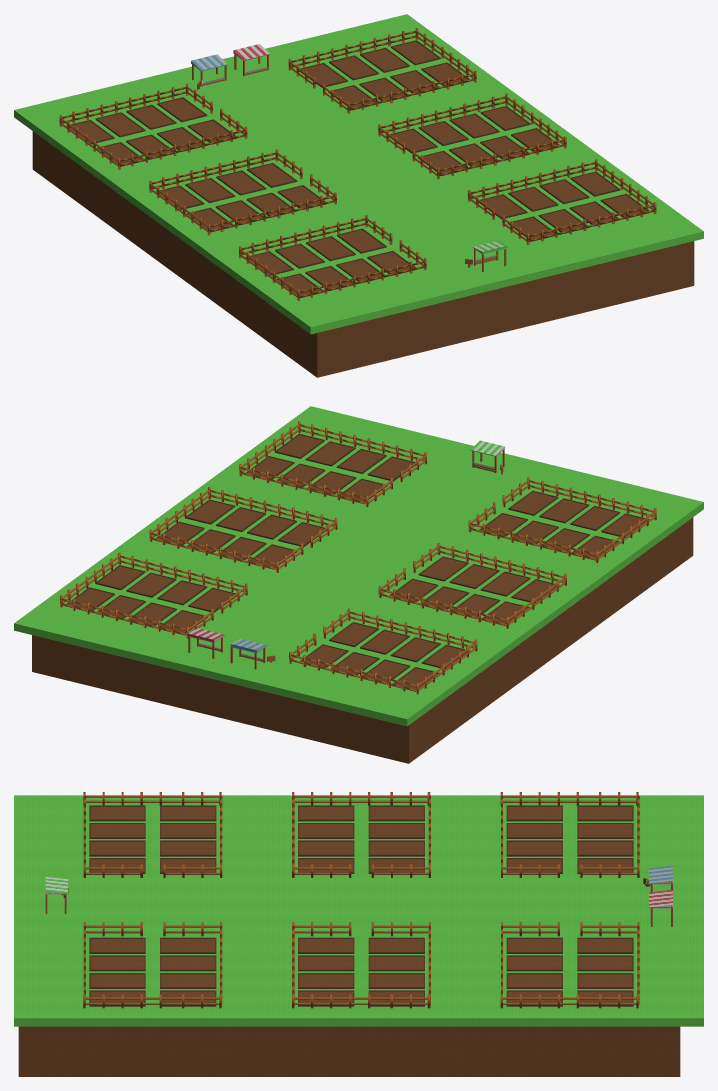
Rendered from garden-map.glb.
The picture shows the model from 3 angles, top to bottom: view 1: azimuth 30°, elevation 25°; view 2: azimuth 150°, elevation 25°; view 3: azimuth 270°, elevation 25°; orthographic projection. The views are drawn at different scales.
Visible parts, largest first — view 1: Grass, Plots, Cube.013, Sell Shop; view 2: Grass, Plots, Gear Shop, Cube.013; view 3: Grass, Plots, Gear Shop, Sell Shop, Cube.013.
Part boxes in pixels (box(x1,y1,x2,y2)): Grass: box(14, 14, 703, 377); Plots: box(59, 28, 656, 300); Cube.013: box(191, 54, 227, 86); Sell Shop: box(233, 44, 269, 75); Grass: box(14, 406, 703, 763); Plots: box(60, 421, 656, 694); Gear Shop: box(470, 440, 504, 472); Cube.013: box(230, 638, 267, 669); Grass: box(14, 795, 703, 1076); Plots: box(83, 792, 639, 1008); Gear Shop: box(45, 877, 68, 913); Sell Shop: box(649, 890, 672, 926); Cube.013: box(649, 865, 672, 892).
Bounding box in the file's own units: 32.04 × 5.79 × 41.89.
11 materials, 8 textured.
